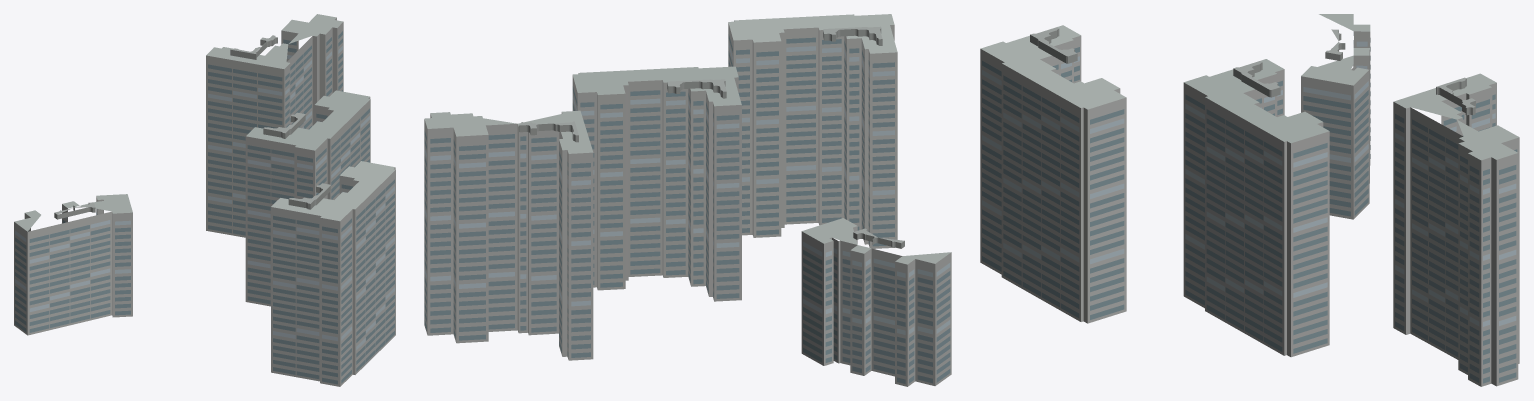
File: apt-a10027744.glb
3 renders of one model, left to right at view 1: azimuth 30°, elevation 25°; view 2: azimuth 150°, elevation 25°; view 3: azimuth 270°, elevation 25°, orthographic. The views are drawn at different scales.
Visible parts, largest first — view 1: apt-a10027744; view 2: apt-a10027744; view 3: apt-a10027744.
Part boxes in pixels (left/top/right/bottom): apt-a10027744: left=14, top=14, right=395, bottom=386; apt-a10027744: left=424, top=14, right=951, bottom=386; apt-a10027744: left=980, top=14, right=1519, bottom=386.
Bounding box in the file's own units: 164 × 75 × 157.
